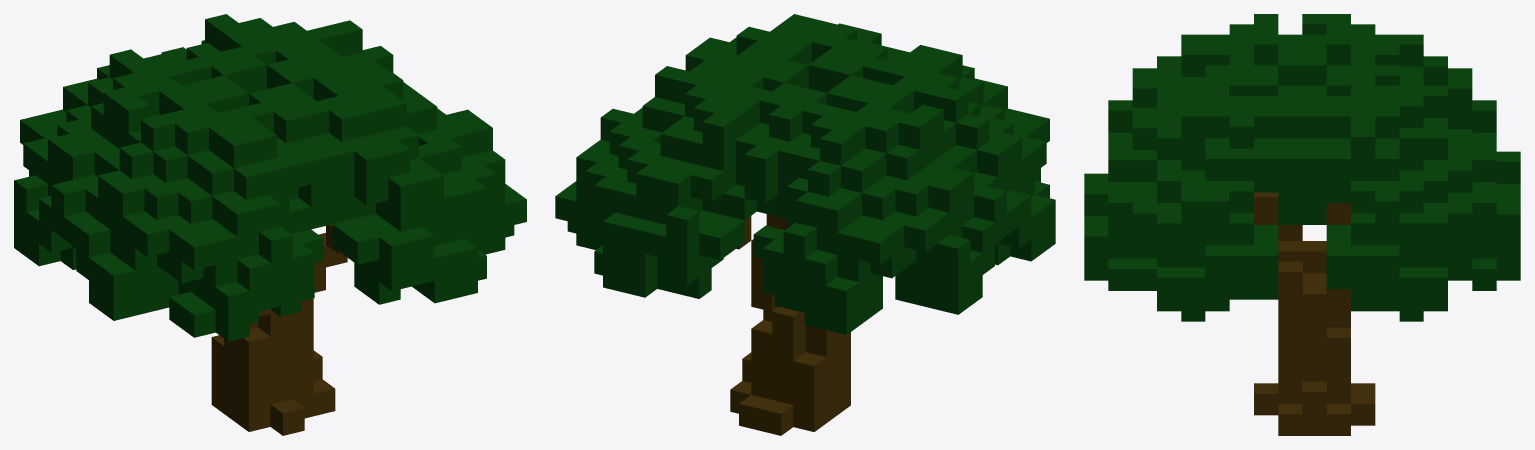
The model's file is TreeLOD-2-Tree2_2.obj.
The picture shows the model from 3 angles, left to right: view 1: azimuth 30°, elevation 25°; view 2: azimuth 150°, elevation 25°; view 3: azimuth 270°, elevation 25°; orthographic projection. The views are drawn at different scales.
Visible parts, largest first — view 1: Tree2_2; view 2: Tree2_2; view 3: Tree2_2.
Boxes of the visible parts, left/top/right/bottom form: Tree2_2: left=14, top=14, right=526, bottom=435; Tree2_2: left=555, top=14, right=1055, bottom=435; Tree2_2: left=1084, top=14, right=1520, bottom=435.
Size of the model in its own units: 3.6 by 3 by 3.6.
1 material, 1 textured.
